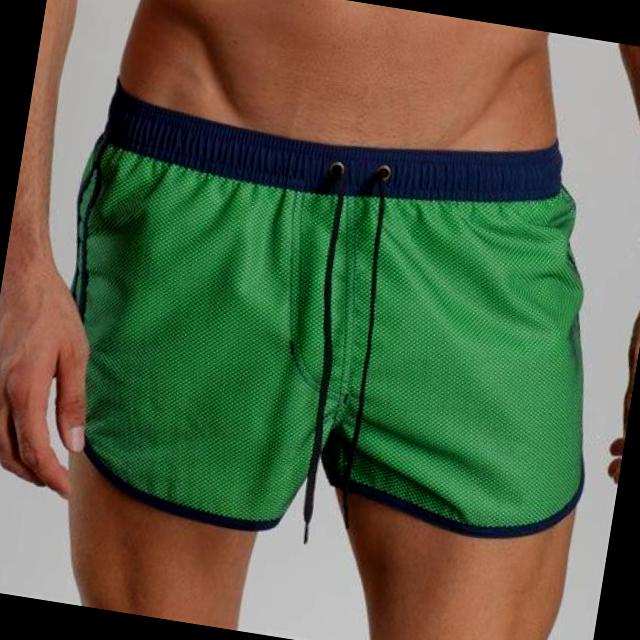short: (27, 64, 636, 580)
